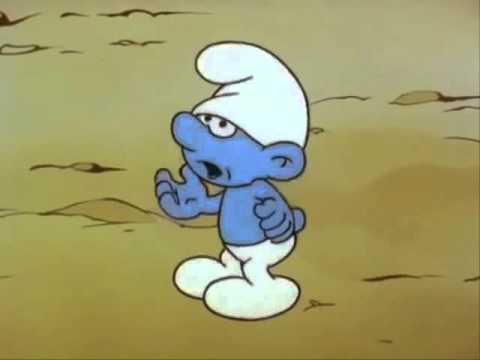smurf: (151, 41, 309, 322)
